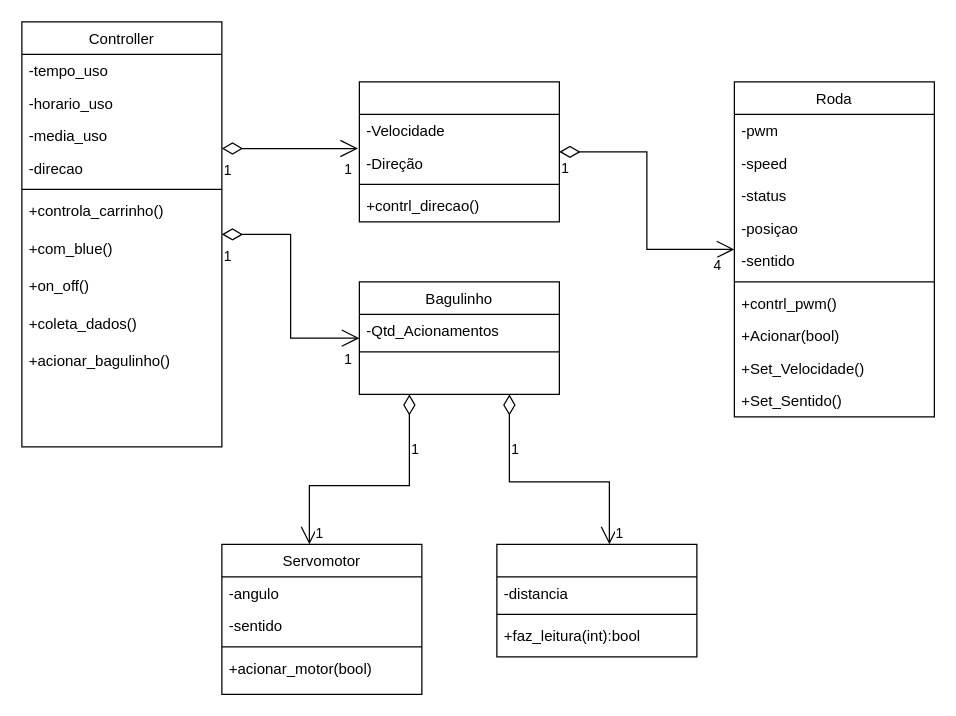
Image size: 956x716. Some labels were removed from this diagram. Here are the shapes that lost their labels. From the top down, the box of each, then its label:
(358, 81, 559, 222): Carrinho
(496, 543, 697, 657): Sensor de presença
